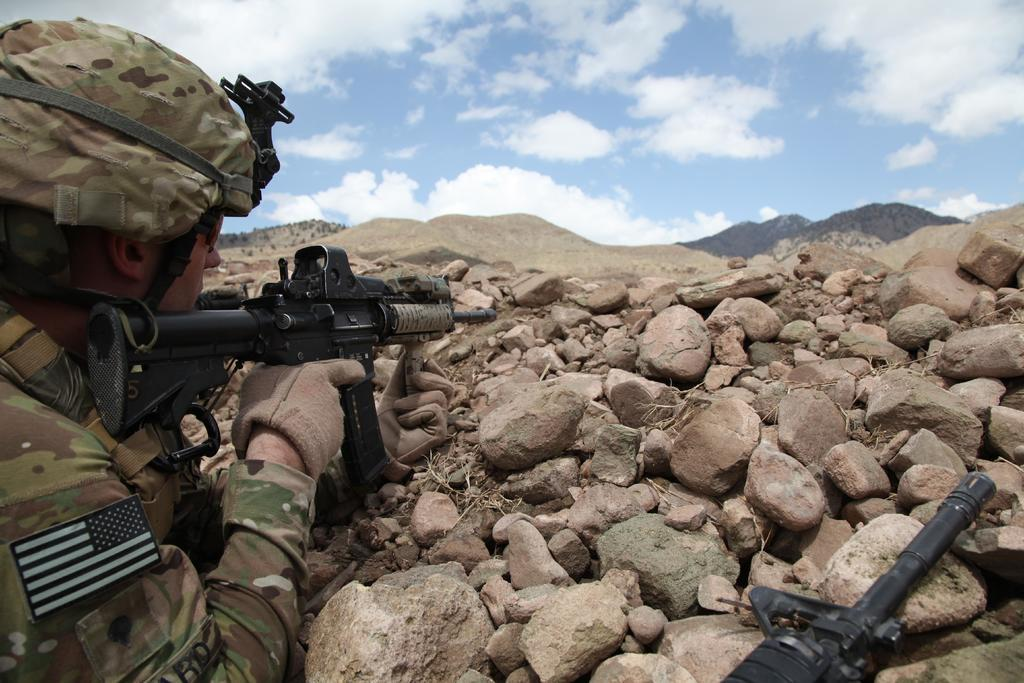Rifle: (69, 231, 499, 499), (721, 458, 999, 682)
